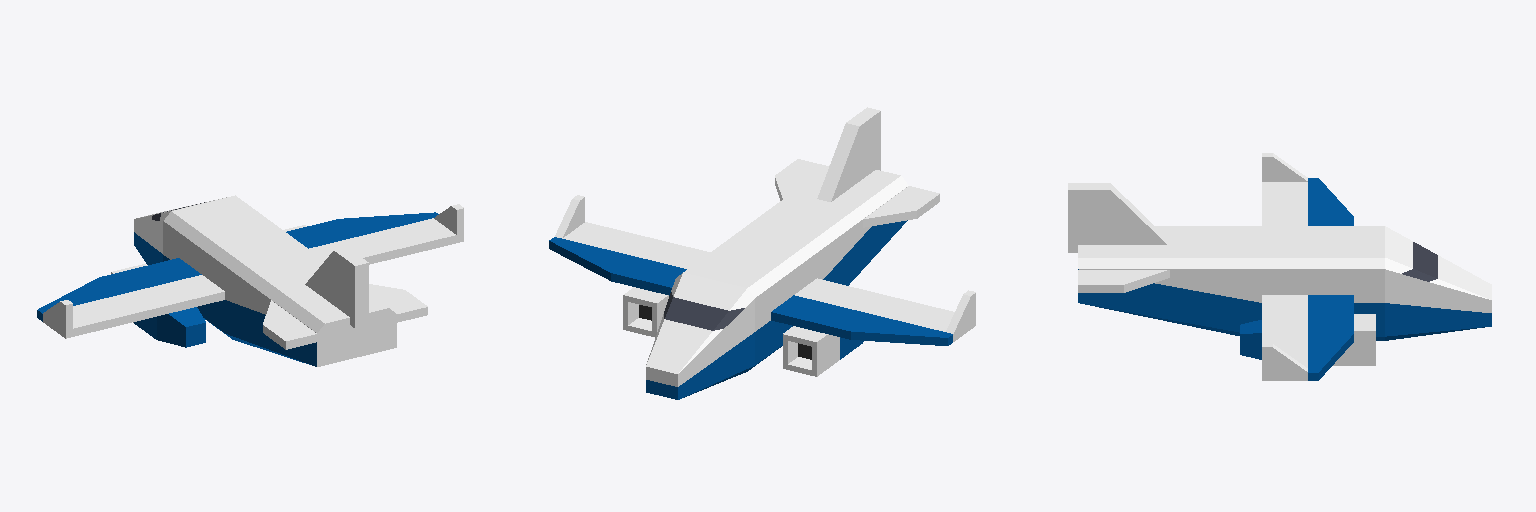
File: spacecraft.obj
3 views of the same model, side by side, from view 1: azimuth 30°, elevation 25°; view 2: azimuth 150°, elevation 25°; view 3: azimuth 270°, elevation 25° (orthographic).
Visible parts, largest first — view 1: (0.0, 0.0, 0.0); view 2: (0.0, 0.0, 0.0); view 3: (0.0, 0.0, 0.0).
Boxes of the visible parts, x1=… form: (0.0, 0.0, 0.0): x1=37, y1=195, x2=463, y2=366; (0.0, 0.0, 0.0): x1=549, y1=107, x2=975, y2=399; (0.0, 0.0, 0.0): x1=1068, y1=153, x2=1491, y2=380.
Size of the model in its own units: 5 by 1.66 by 4.61.